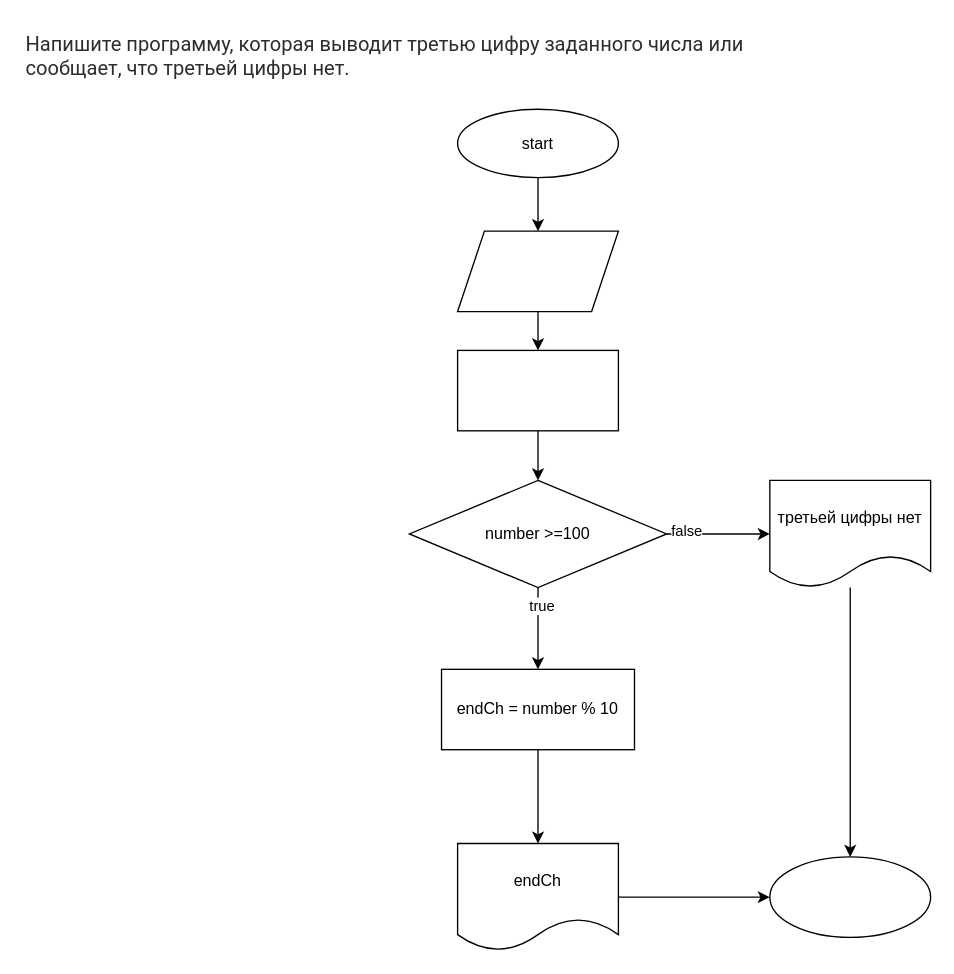
Image size: 954x974. Some labels were removed from this diagram. Here are the shapes that lost their labels. From the top down, the centre of each, then its label:
(x=537, y=271): numbers
(x=537, y=390): endCh = 0
(x=849, y=896): end
